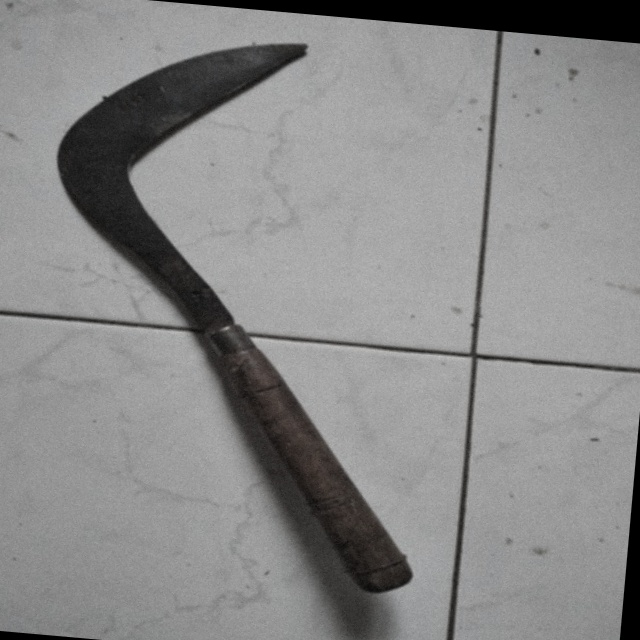Sharp-Object: (8, 11, 463, 611)
